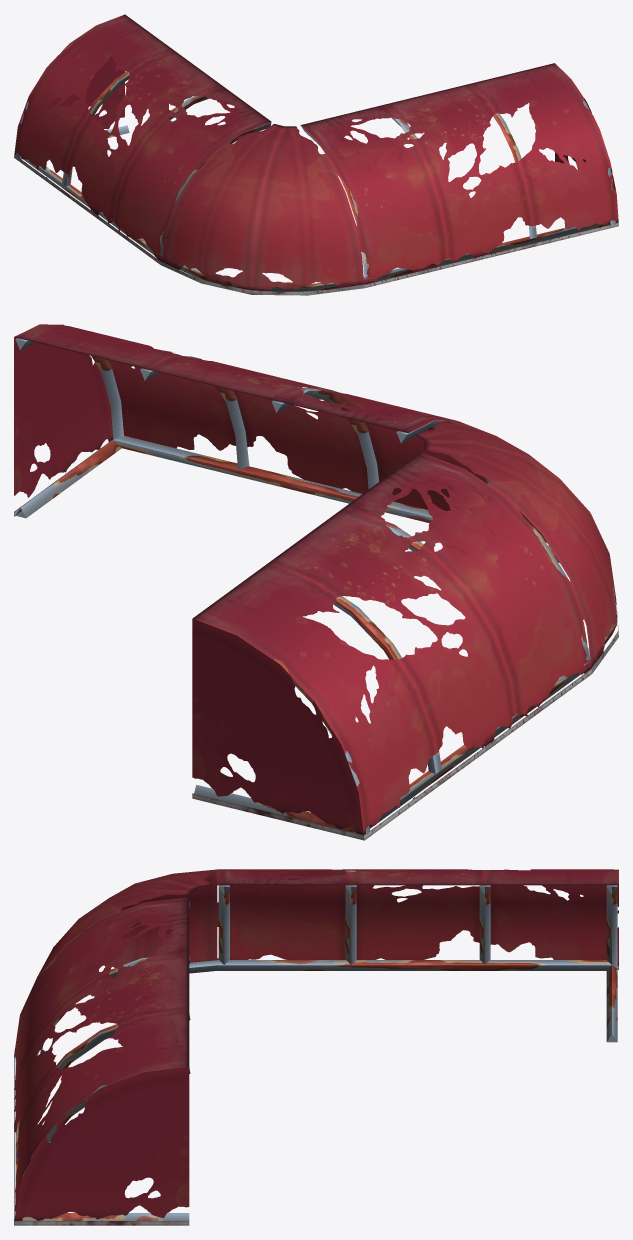
Rendered from awning04_corner.fbx.
3 renders of one model, top to bottom at view 1: azimuth 30°, elevation 25°; view 2: azimuth 150°, elevation 25°; view 3: azimuth 270°, elevation 25°, orthographic. The views are drawn at different scales.
Parts seen in each view (by area): view 1: awning04_corner; view 2: awning04_corner; view 3: awning04_corner.
Boxes of the visible parts, x1,y1,x2,y2 form: awning04_corner: (14,14,618,295); awning04_corner: (14,324,618,840); awning04_corner: (14,869,618,1225).
Bounding box in the file's own units: 449 × 130 × 449.
